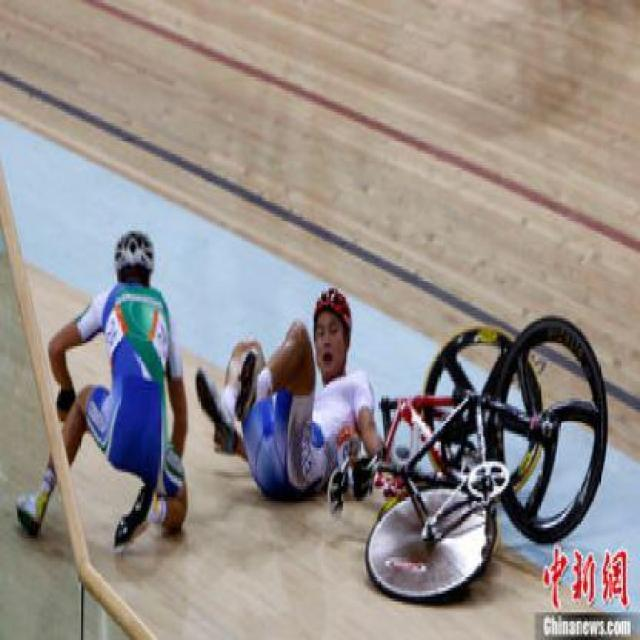fall: (193, 266, 396, 506)
